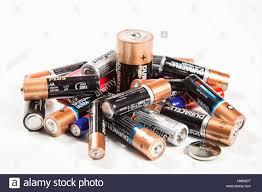battery: (183, 72, 248, 130), (108, 23, 160, 94), (102, 109, 166, 164), (160, 101, 237, 146), (104, 74, 172, 114), (21, 72, 102, 101), (82, 92, 109, 159)
